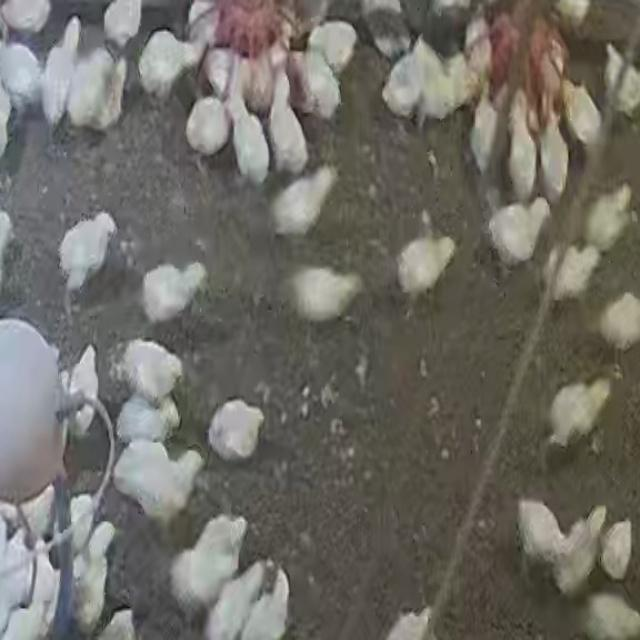chicken: (167, 513, 252, 613), (2, 509, 62, 633), (56, 211, 117, 303), (71, 520, 118, 631), (545, 376, 611, 452), (115, 338, 185, 408), (267, 67, 310, 178), (488, 198, 553, 271), (269, 168, 336, 237), (141, 447, 205, 519), (558, 498, 605, 596), (41, 17, 81, 131), (136, 28, 197, 102), (519, 494, 586, 561), (287, 264, 362, 323), (208, 563, 263, 640), (63, 343, 105, 442), (395, 232, 457, 299), (232, 86, 272, 186), (137, 261, 203, 321), (298, 41, 346, 122), (535, 98, 570, 206), (207, 398, 266, 462), (237, 564, 288, 638), (205, 50, 277, 102), (68, 45, 107, 136), (582, 184, 634, 252), (506, 94, 538, 204), (412, 37, 453, 122), (0, 39, 45, 114), (114, 394, 176, 448), (547, 242, 601, 303), (110, 439, 170, 493), (88, 58, 130, 133), (184, 94, 231, 161), (306, 18, 359, 76), (359, 3, 412, 61), (562, 78, 602, 154), (580, 589, 639, 640), (5, 484, 56, 543), (602, 41, 640, 120), (468, 90, 500, 182), (385, 38, 419, 121), (597, 290, 640, 352), (61, 492, 95, 563), (100, 1, 143, 52), (468, 12, 495, 88), (600, 517, 633, 577), (0, 0, 53, 37), (439, 54, 469, 108), (187, 2, 221, 48), (0, 211, 15, 285), (554, 0, 592, 29)
